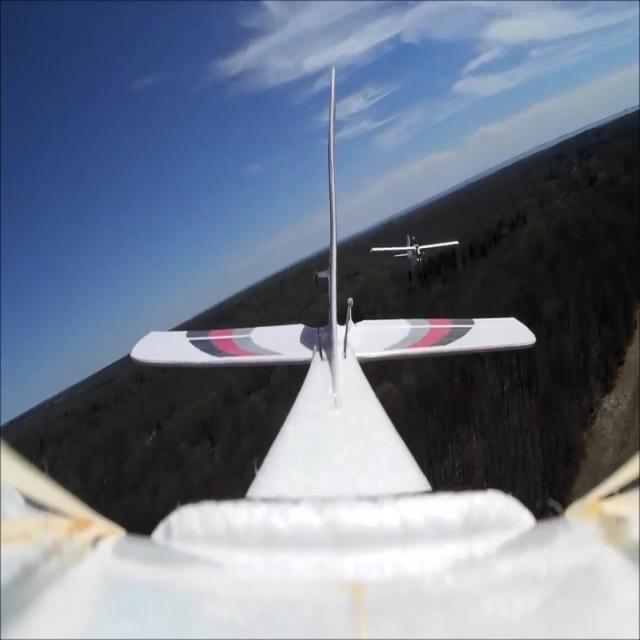iha: (402, 234, 428, 282)
